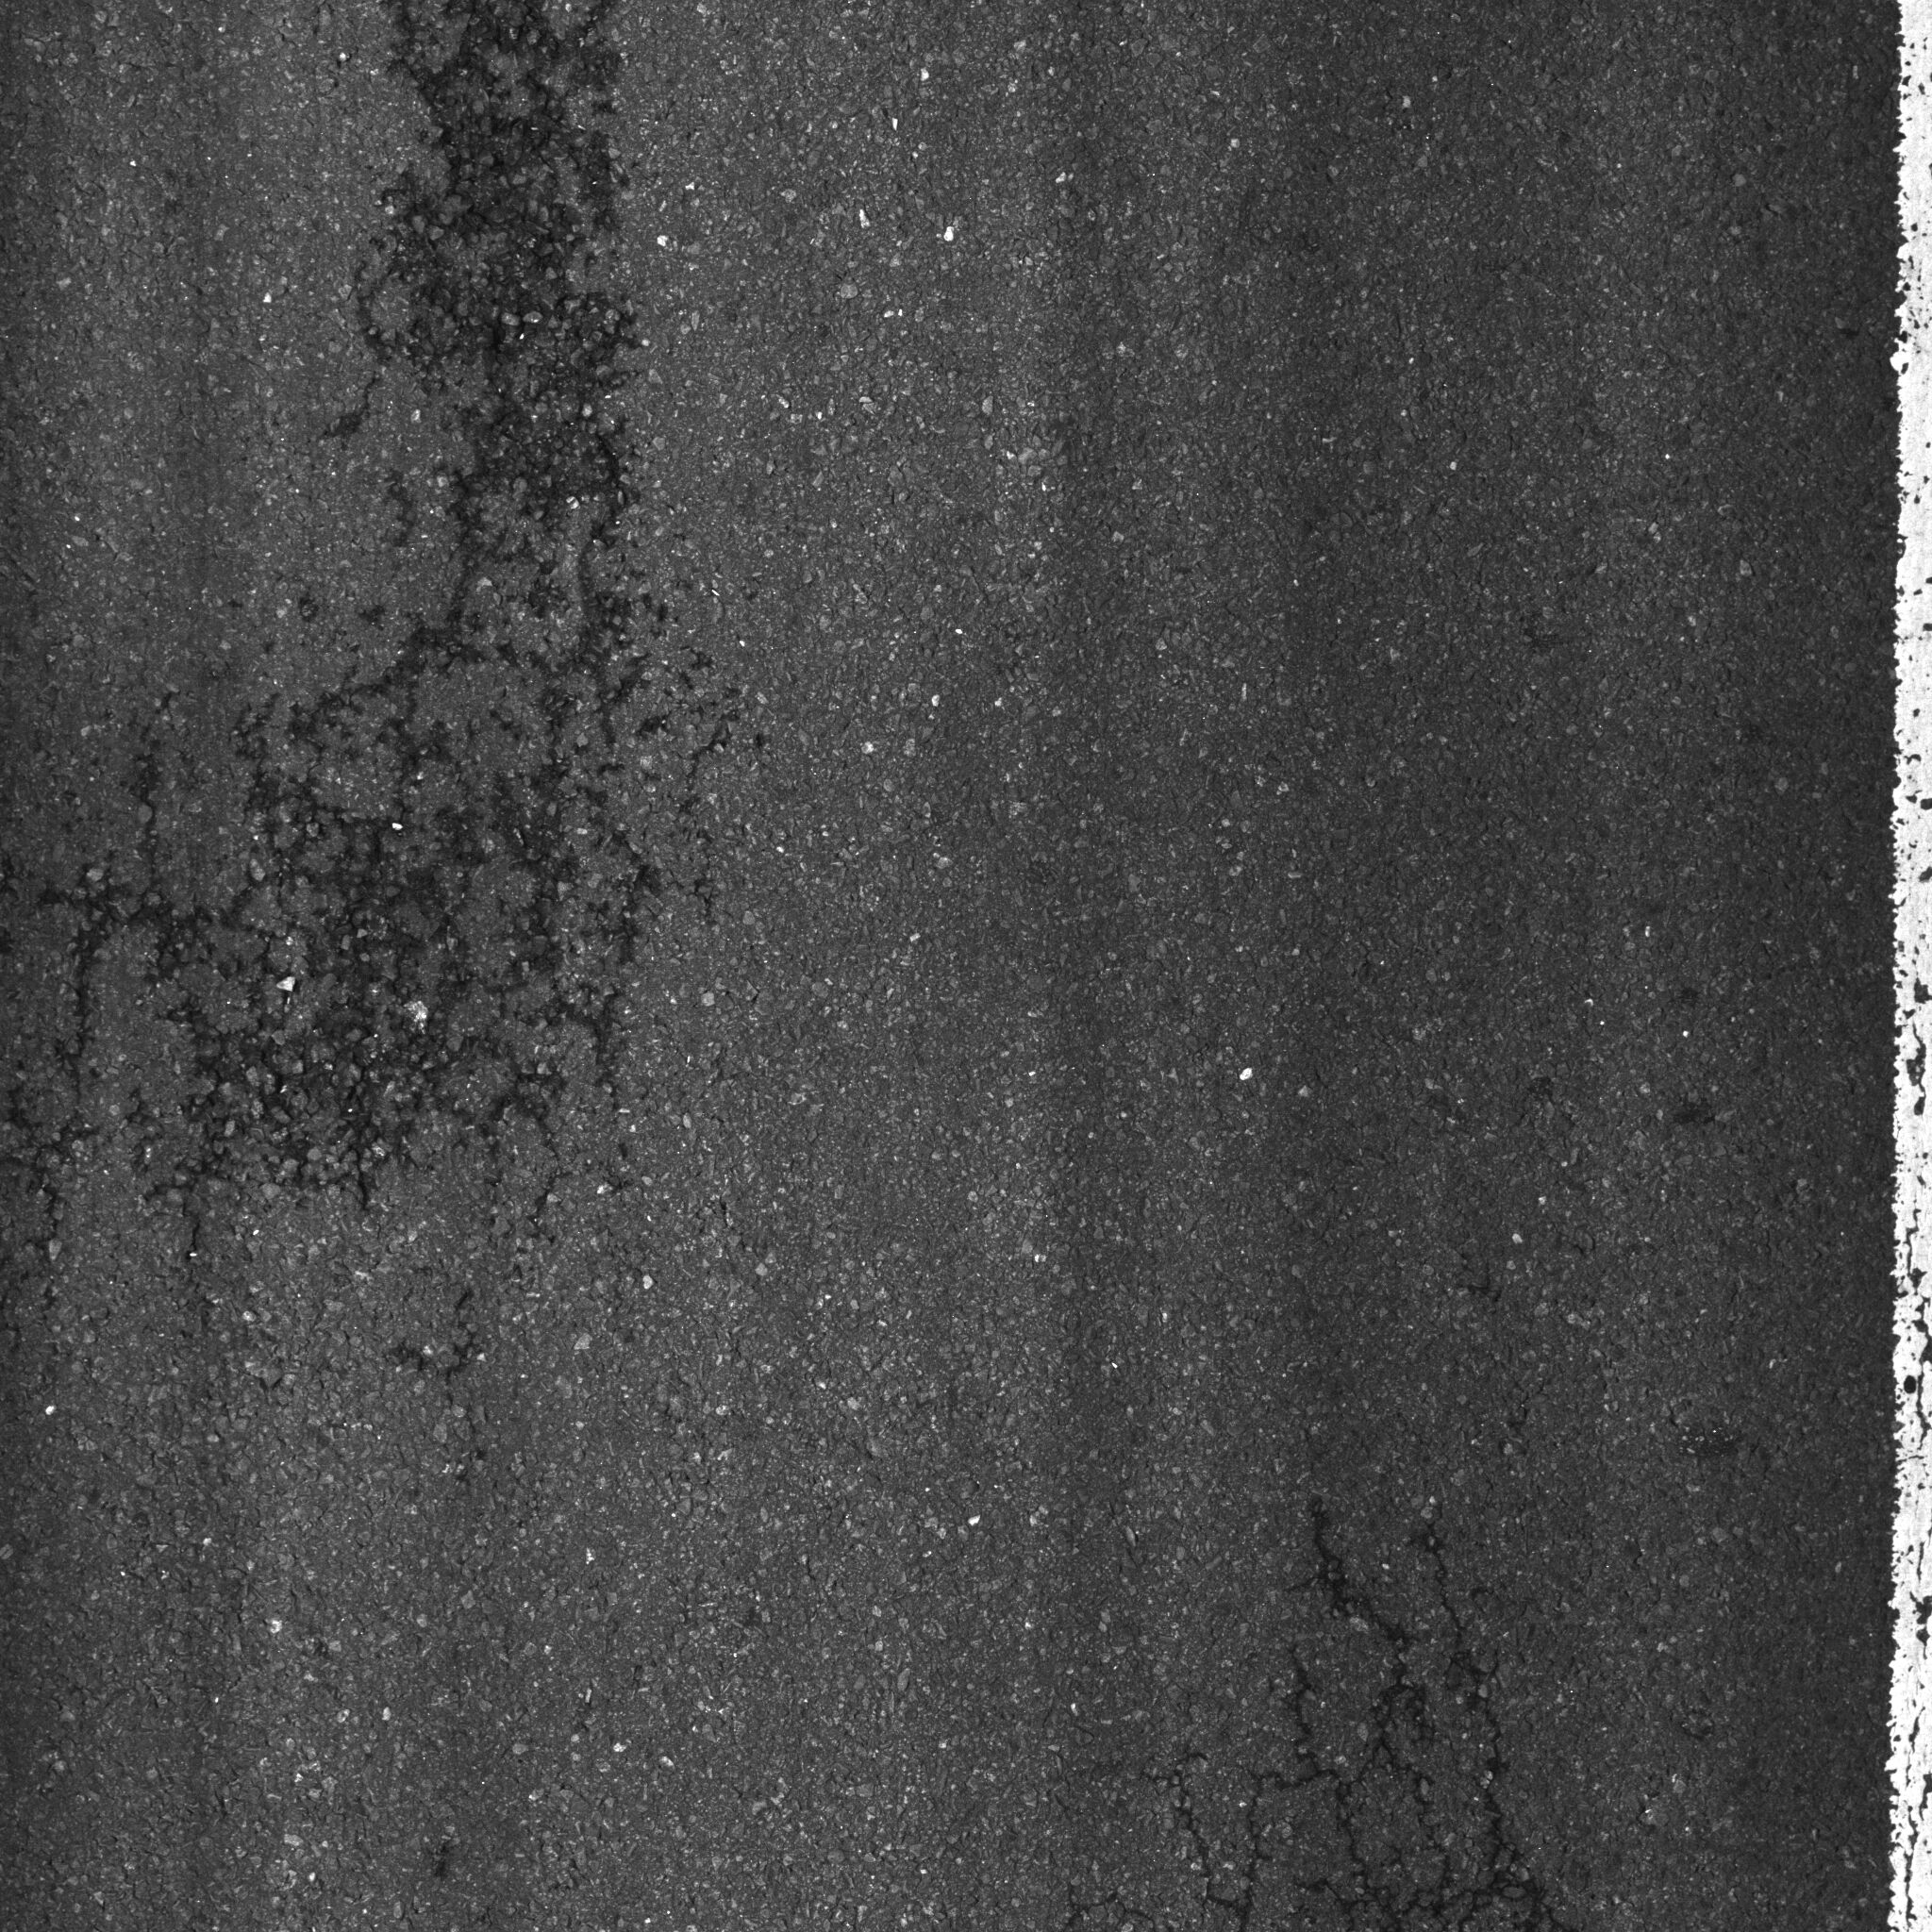alligator: (39, 18, 732, 1251), (1070, 1495, 1739, 1932)
